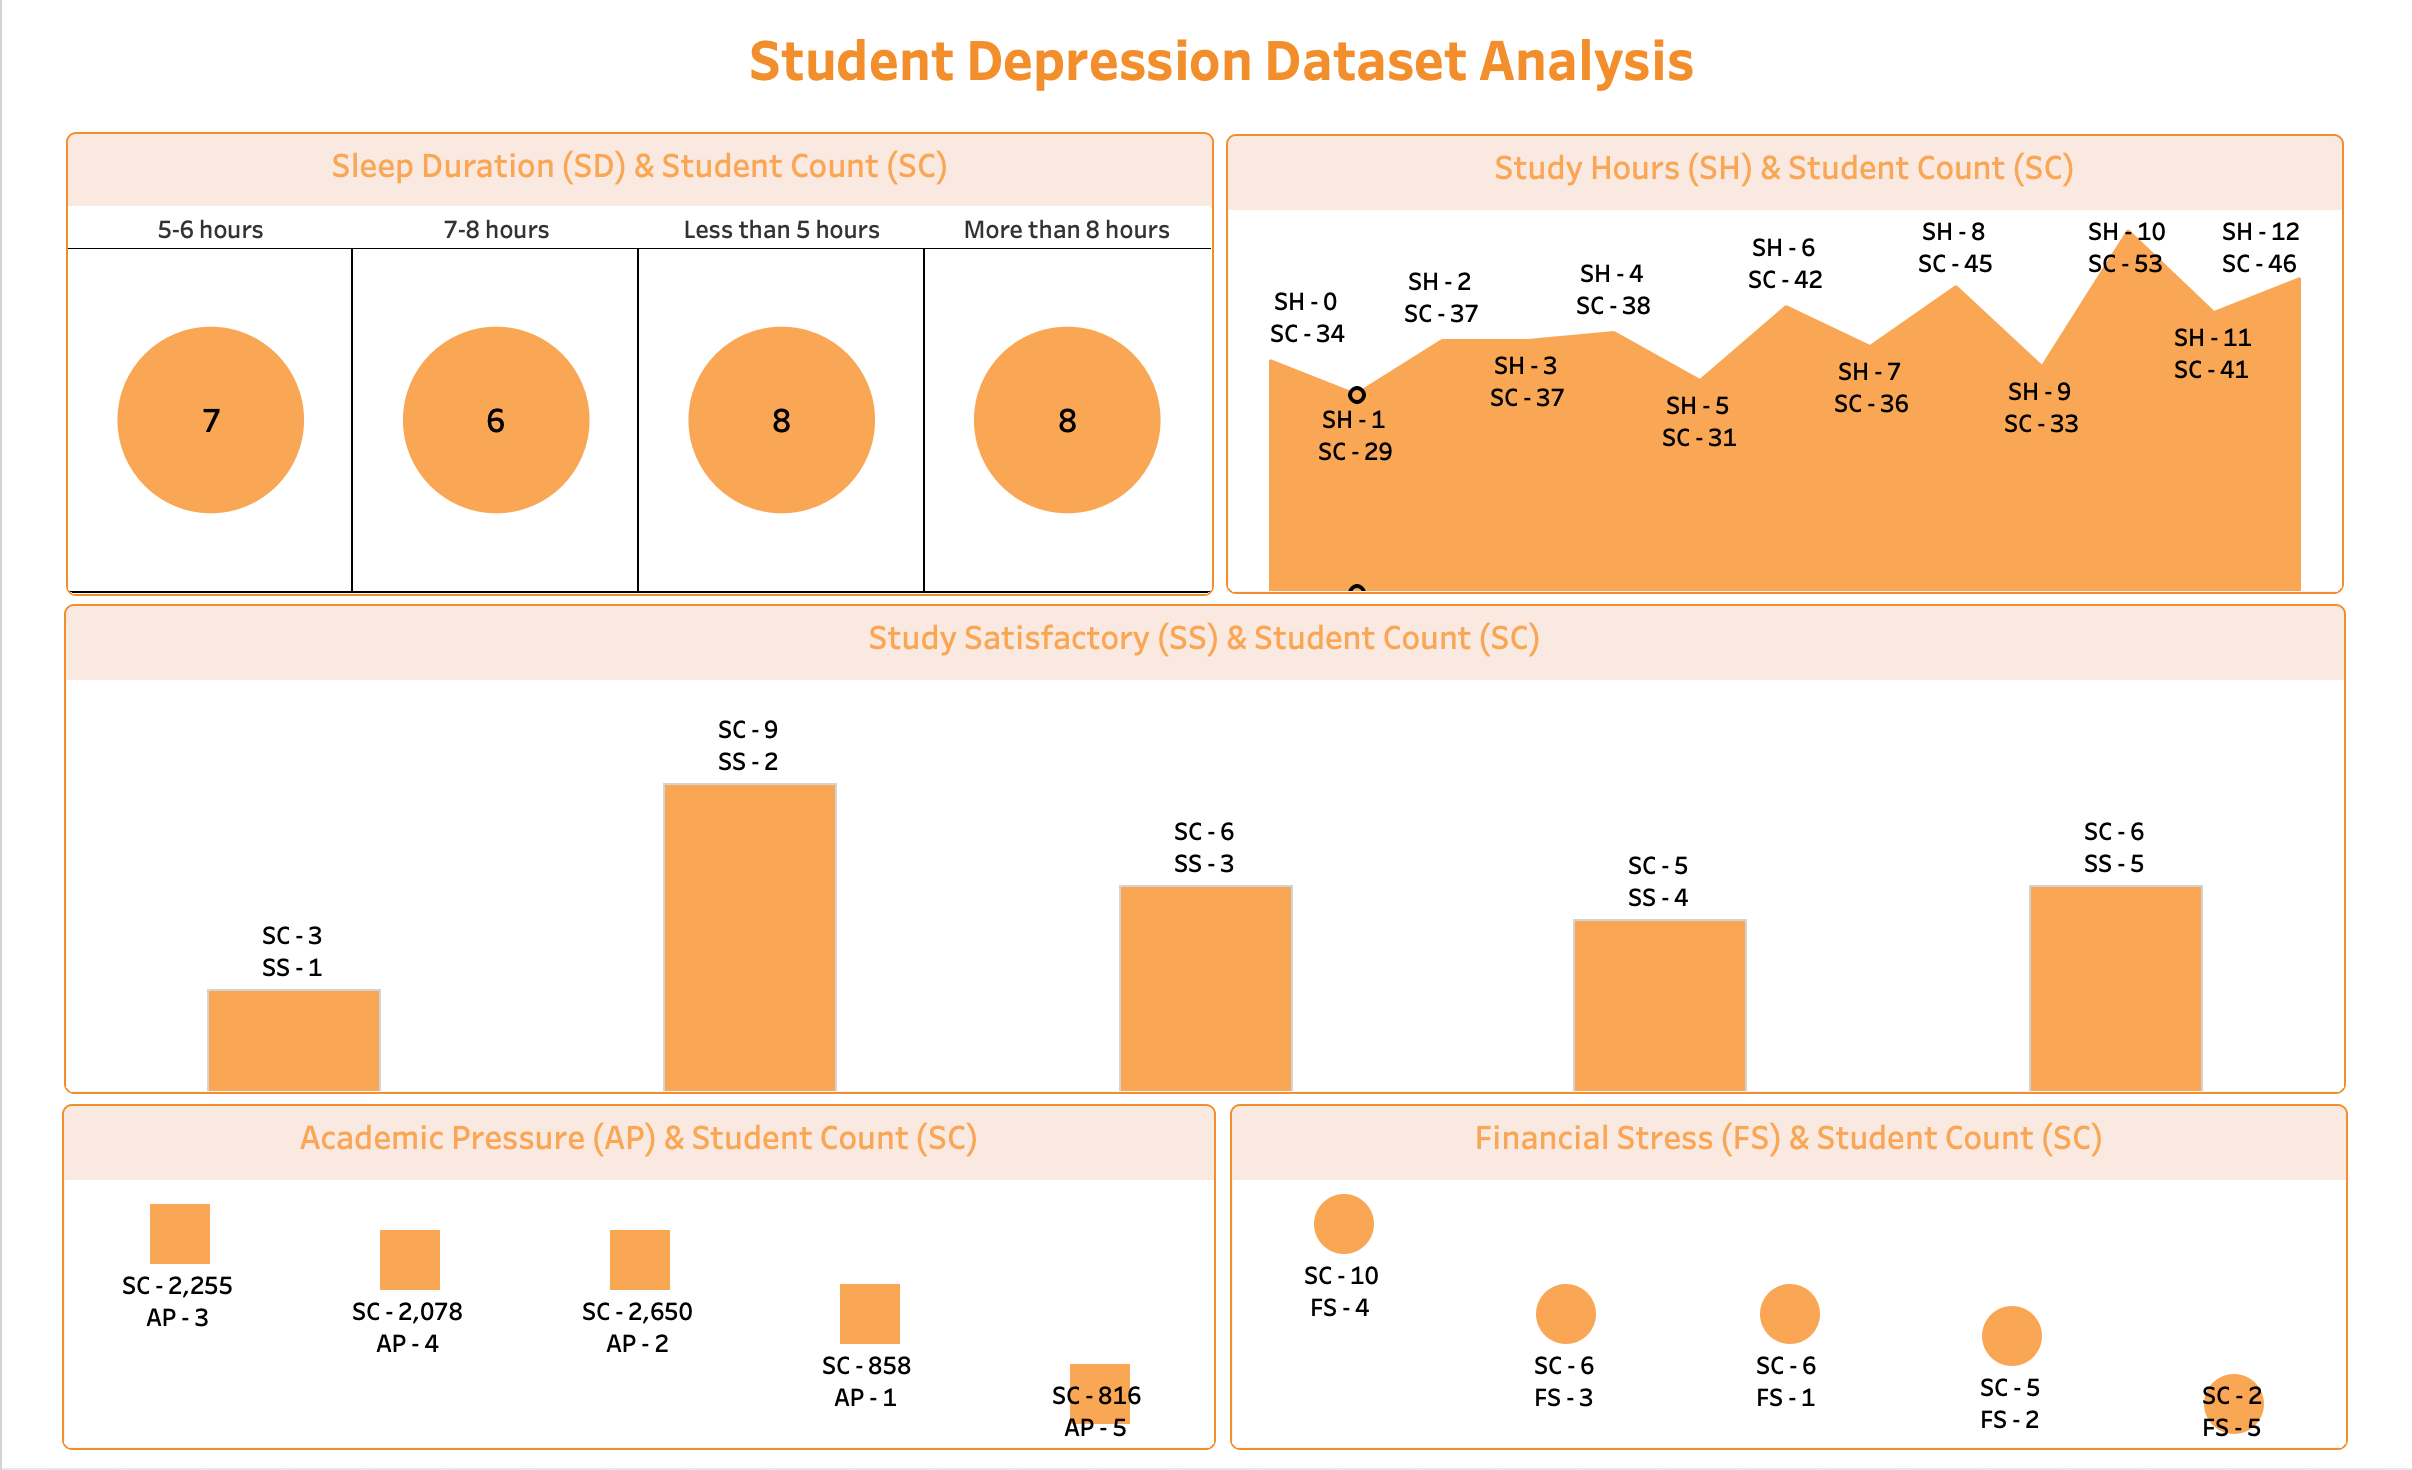

This screenshot's page, from the dashboard's own definition file:
{"tool":"tableau","page":{"name":"Dashboard 1","canvas":[1000,1000],"units":"permille","ordinal":0},"visuals":[{"type":"title","box":[6.6,10.9,986.9,61.2]},{"type":"worksheet","title":"Sheet 4","mark":"Pie","cols":["sleep_duration"],"box":[26.2,91.2,470.5,315.7]},{"type":"worksheet","title":"Sheet 5","mark":"Area","rows":["index_col"],"cols":["study_hours"],"box":[501.6,92.5,458.2,312.9]},{"type":"worksheet","title":"Sheet 3","mark":"Automatic","rows":["index_col"],"cols":["study_satisfaction"],"box":[25.4,412.2,935.2,333.3]},{"type":"worksheet","title":"Sheet 1","mark":"Square","rows":["index_col"],"cols":["academic_pressure"],"box":[24.6,752.4,472.9,235.4]},{"type":"worksheet","title":"Sheet 2","mark":"Circle","rows":["index_col"],"cols":["financial_stress"],"box":[503.3,752.4,458.2,235.4]}]}

Visuals, with their boxes on the dashboard's canvas, which has no fixed pixel size, in thousandths of its width and height (x1, y1, x2, y2). These are canvas units, not pixel positions in the 2412x1470 screenshot, which may show the page scaled, cropped or inside an application window:
title: 7:11:994:72
"Sheet 4" worksheet (Pie marks): 26:91:497:407
"Sheet 5" worksheet (Area marks): 502:92:960:405
"Sheet 3" worksheet: 25:412:961:746
"Sheet 1" worksheet (Square marks): 25:752:498:988
"Sheet 2" worksheet (Circle marks): 503:752:962:988
